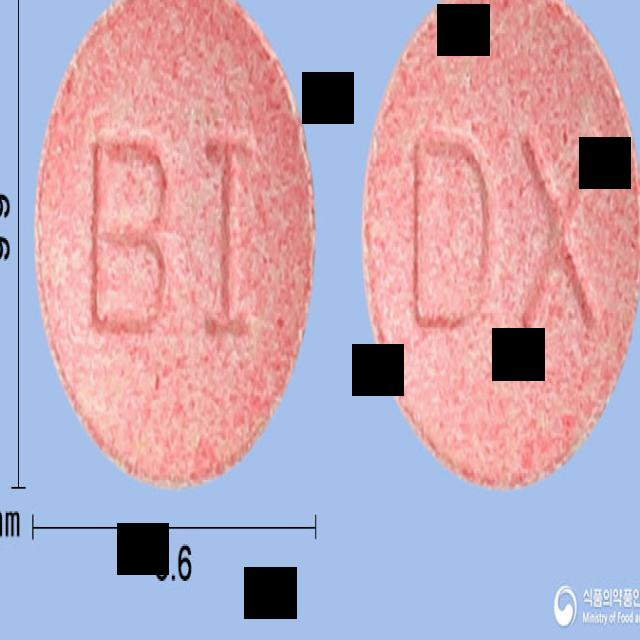Doxic: (34, 0, 315, 487), (362, 0, 640, 492)
